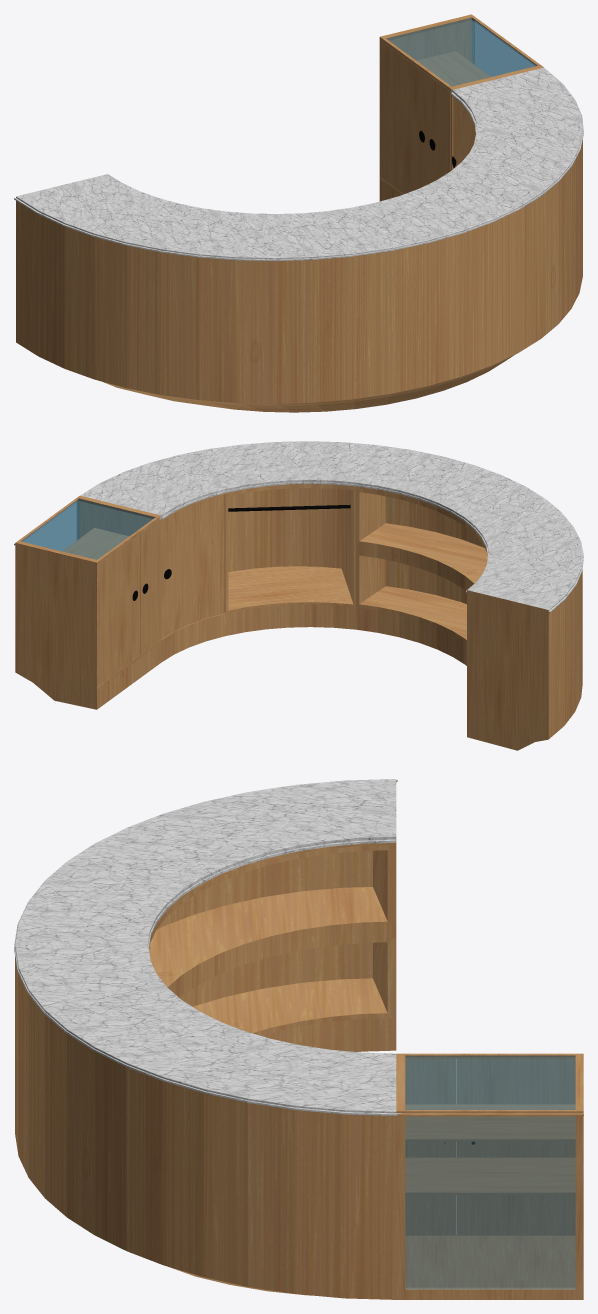
The model's file is counter.glb.
3 views of the same model, one above another, from view 1: azimuth 30°, elevation 25°; view 2: azimuth 150°, elevation 25°; view 3: azimuth 270°, elevation 25° (orthographic). The views are drawn at different scales.
Visible parts, largest first — view 1: Ellipse.003_0, Ellipse.006_7, Ellipse.007_3, Ellipse.005_2, Ellipse.008_4, Ellipse.004_1, Ellipse.009_5; view 2: Ellipse.003_0, Ellipse.009_5, Ellipse.006_7, Ellipse.007_3, Ellipse.005_2, Ellipse.008_4, Ellipse.004_1, Ellipse.010_6; view 3: Ellipse.003_0, Ellipse.008_4, Ellipse.006_7, Ellipse.004_1, Ellipse.007_3, Ellipse.005_2.
Part boxes in pixels (x1,y1,x2,y2): Ellipse.003_0: (14,14,583,412); Ellipse.006_7: (381,41,428,194); Ellipse.007_3: (386,18,537,86); Ellipse.005_2: (429,76,450,183); Ellipse.008_4: (472,21,535,76); Ellipse.004_1: (416,51,490,86); Ellipse.009_5: (452,97,475,168); Ellipse.003_0: (14,441,583,750); Ellipse.009_5: (161,495,224,639); Ellipse.006_7: (98,533,140,685); Ellipse.007_3: (21,499,154,559); Ellipse.005_2: (140,520,159,654); Ellipse.008_4: (23,502,79,550); Ellipse.004_1: (62,528,128,559); Ellipse.010_6: (228,505,350,511); Ellipse.003_0: (14,779,583,1299); Ellipse.008_4: (405,1116,575,1289); Ellipse.006_7: (456,1057,575,1235); Ellipse.004_1: (405,1104,575,1194); Ellipse.007_3: (405,1055,575,1109); Ellipse.005_2: (405,1057,455,1235).
Bounding box in the file's own units: 2.89 × 0.8705 × 2.08.
5 materials, 3 textured.
